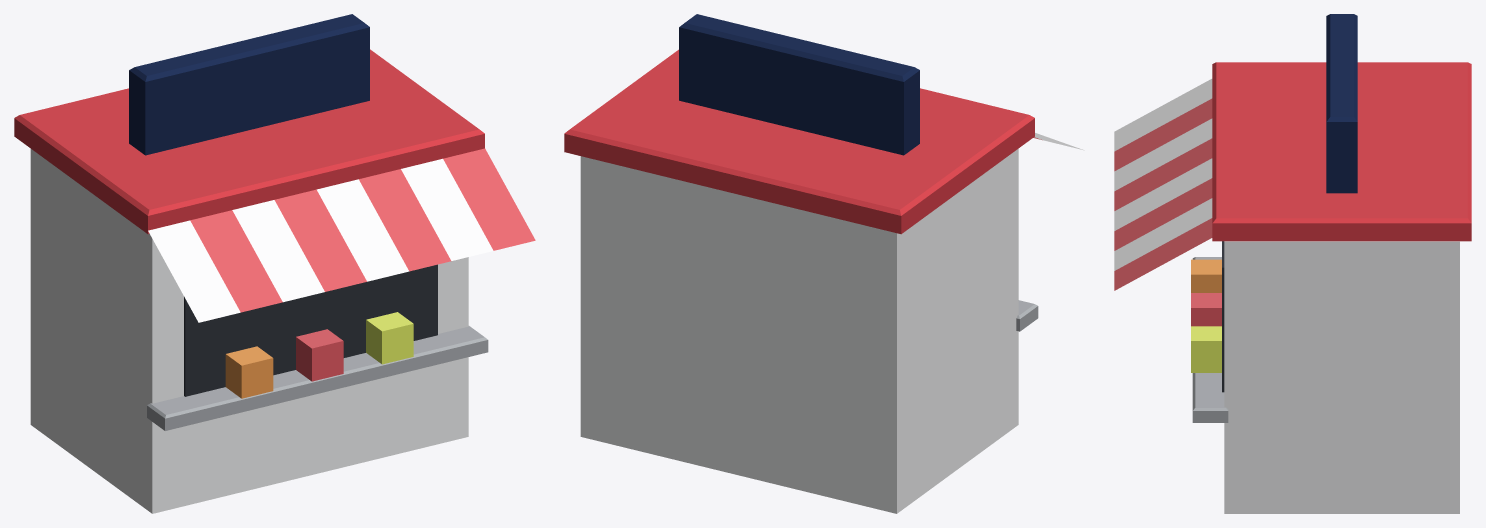
The model's file is Kiosk_food.glb.
3 views of the same model, side by side, from view 1: azimuth 30°, elevation 25°; view 2: azimuth 150°, elevation 25°; view 3: azimuth 270°, elevation 25° (orthographic). The views are drawn at different scales.
Visible parts, largest first — view 1: Kiosk_food; view 2: Kiosk_food; view 3: Kiosk_food.
Boxes of the visible parts, bbox=[...] form: Kiosk_food: bbox=[14, 14, 535, 513]; Kiosk_food: bbox=[564, 14, 1084, 513]; Kiosk_food: bbox=[1114, 14, 1471, 513].
Bounding box in the file's own units: 9.6 × 10.5 × 9.1.
Materials: 1 (1 with a texture image).
